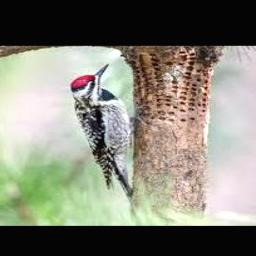Woodpecker: (72, 63, 136, 200)
